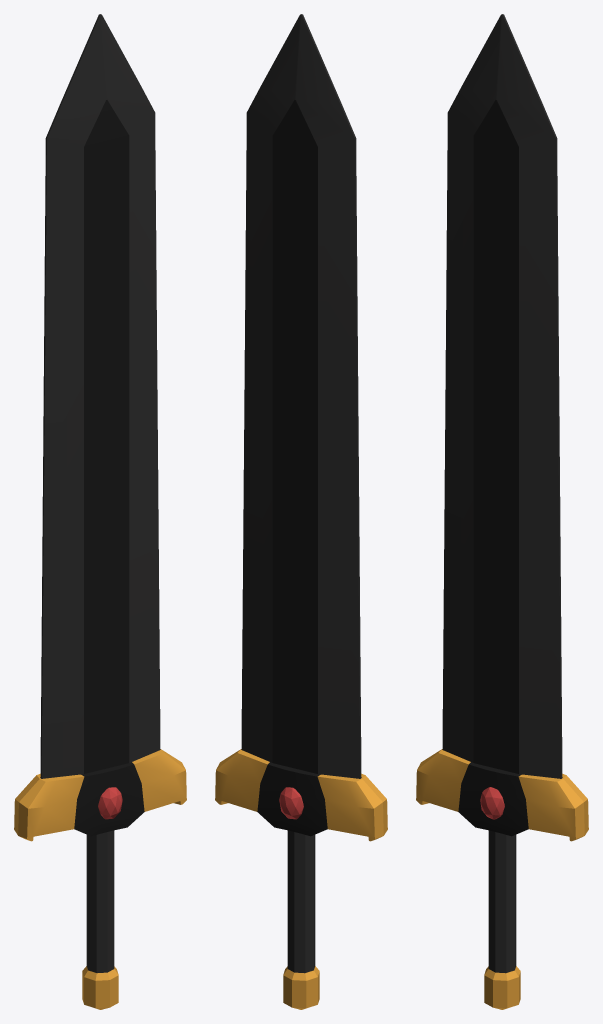
The model's file is two_handed_sword_3.fbx.
The picture shows the model from 3 angles, left to right: view 1: azimuth 30°, elevation 25°; view 2: azimuth 150°, elevation 25°; view 3: azimuth 330°, elevation 25°; orthographic projection.
Parts seen in each view (by area): view 1: two_handed_sword_3; view 2: two_handed_sword_3; view 3: two_handed_sword_3.
Boxes of the visible parts, <box> form: two_handed_sword_3: <box>14,14,186,1009</box>; two_handed_sword_3: <box>215,14,387,1009</box>; two_handed_sword_3: <box>416,14,588,1009</box>.
Bounding box in the file's own units: 0.3154 × 1.82 × 0.0993.
1 material, 1 textured.
